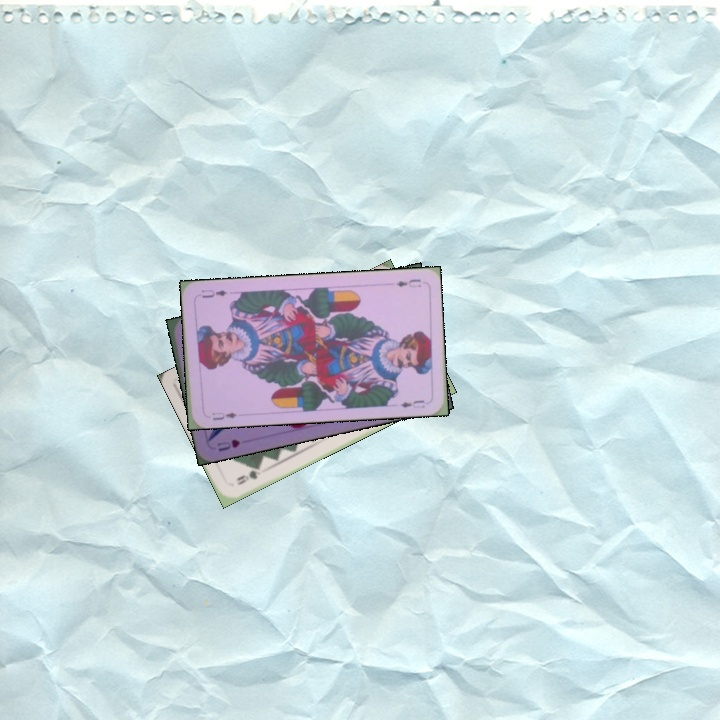EU: (392, 275, 424, 290), (208, 408, 239, 423)
G9: (232, 463, 264, 488)
HU: (213, 435, 243, 454)
